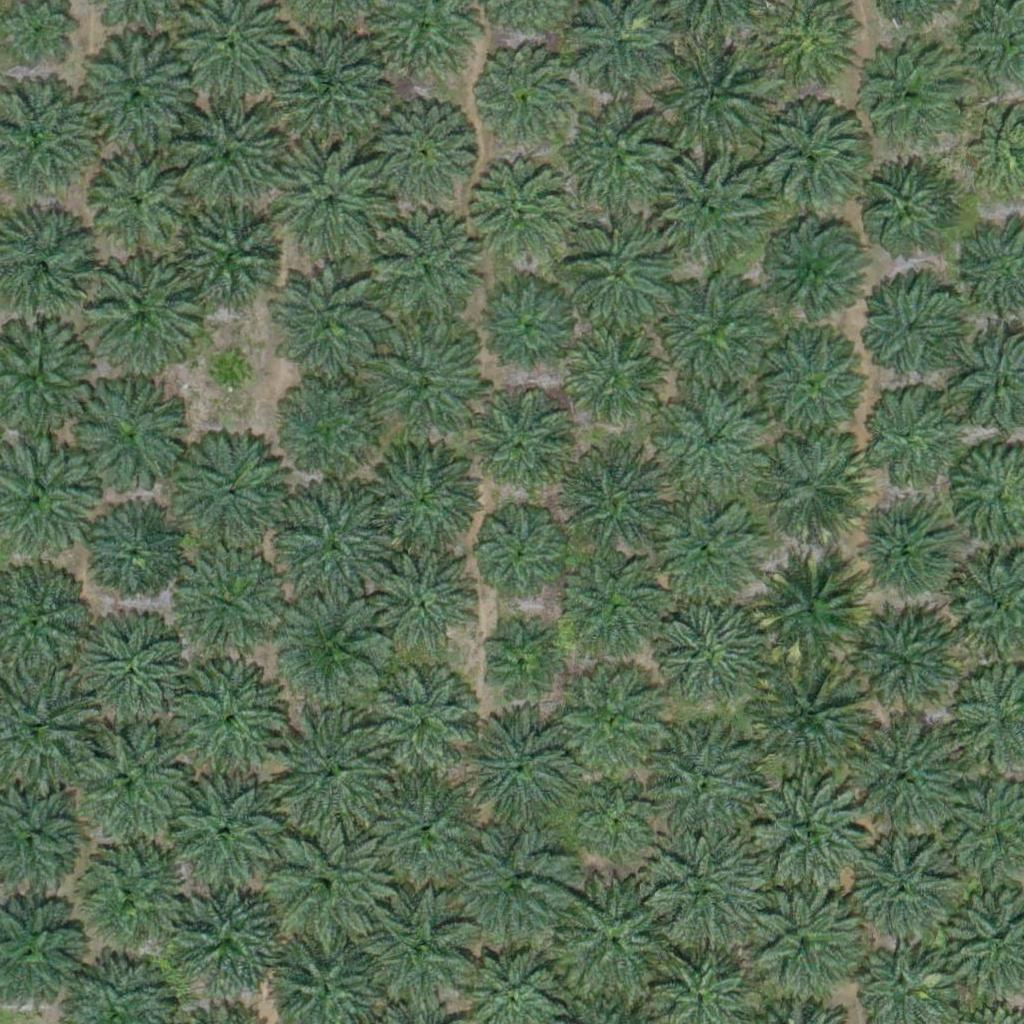Kelapa_Sawit: (76, 35, 201, 161), (273, 487, 398, 613), (166, 97, 291, 223), (56, 723, 181, 849), (266, 708, 391, 834), (262, 823, 387, 949), (558, 879, 683, 1005), (644, 726, 769, 852), (61, 834, 186, 959), (649, 601, 762, 715), (560, 444, 673, 558), (367, 774, 480, 888), (364, 667, 477, 781), (559, 101, 672, 214), (851, 43, 964, 156), (562, 216, 675, 329), (275, 595, 388, 708), (169, 549, 282, 662), (172, 431, 285, 544), (174, 209, 287, 322), (360, 895, 473, 1008), (650, 831, 763, 944), (747, 888, 860, 1001), (752, 784, 865, 897), (272, 44, 384, 158), (363, 100, 475, 214), (367, 206, 479, 320), (368, 324, 480, 438), (276, 145, 388, 259), (274, 270, 386, 384), (459, 715, 571, 829), (461, 829, 573, 943), (657, 40, 769, 153), (750, 99, 862, 212), (851, 611, 963, 724), (757, 330, 869, 443), (753, 430, 865, 543), (758, 555, 870, 668), (654, 385, 766, 498), (659, 283, 771, 396), (658, 149, 770, 262), (365, 439, 477, 552), (76, 372, 188, 485), (86, 618, 198, 731), (174, 880, 286, 993), (166, 777, 278, 890), (171, 667, 283, 780), (753, 660, 865, 773), (848, 720, 960, 833), (844, 829, 956, 942), (476, 43, 576, 144), (857, 502, 957, 603), (860, 388, 960, 489), (864, 282, 964, 383), (862, 161, 962, 262), (767, 222, 867, 323), (467, 167, 567, 268), (374, 553, 474, 654), (279, 377, 379, 478), (86, 149, 186, 250), (93, 267, 193, 368), (86, 504, 186, 605), (561, 677, 661, 778), (658, 496, 758, 596), (564, 334, 664, 434), (566, 556, 666, 656), (477, 512, 565, 600), (479, 407, 567, 495), (487, 287, 574, 375), (480, 627, 555, 703), (582, 786, 657, 862), (205, 348, 255, 398)
